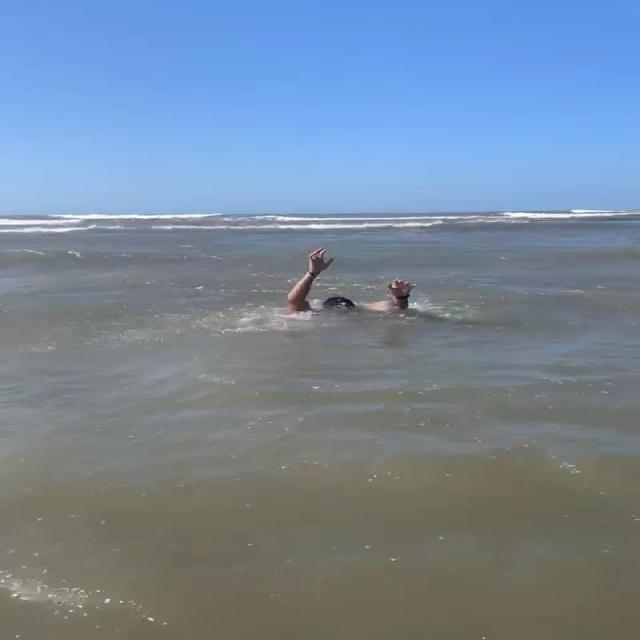Out of Water: (287, 247, 426, 320)
